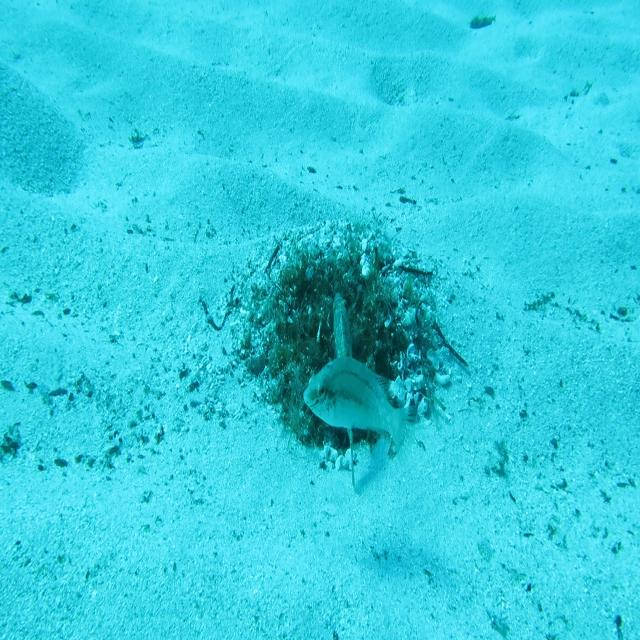FAN: (332, 290, 357, 494)
core_nest: (310, 270, 361, 308)
female: (300, 352, 420, 471)
nest: (227, 212, 458, 484)
vegetation: (470, 14, 498, 30)
